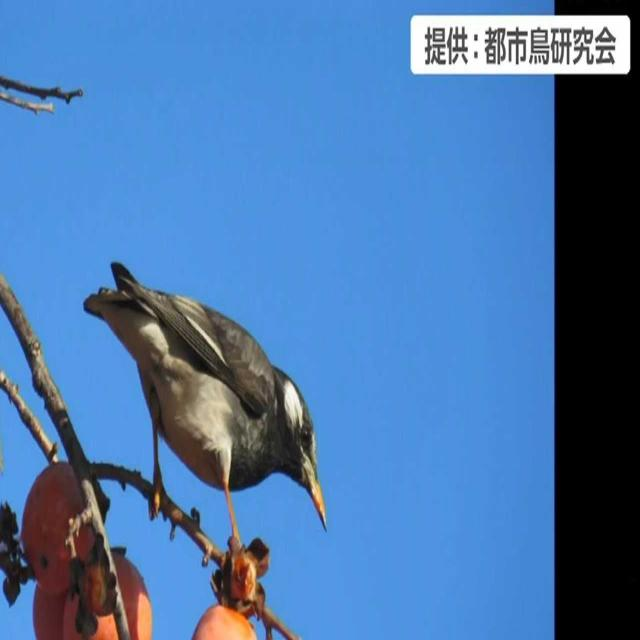bird: (77, 255, 332, 547)
